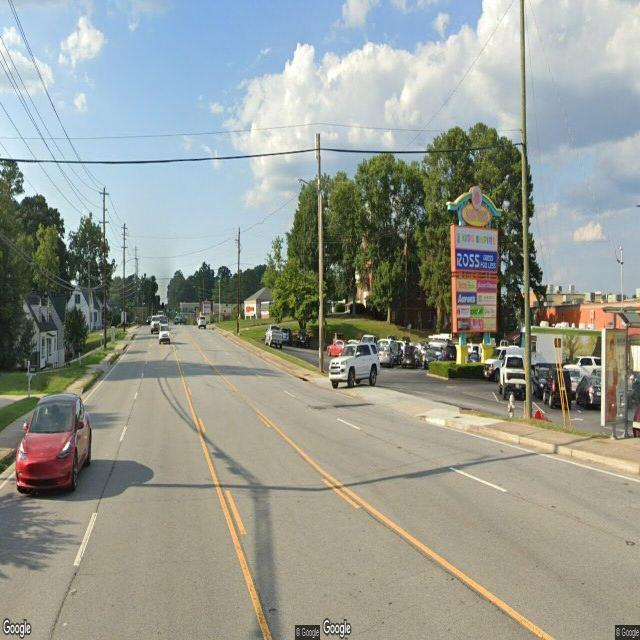shelter: (601, 307, 640, 447)
